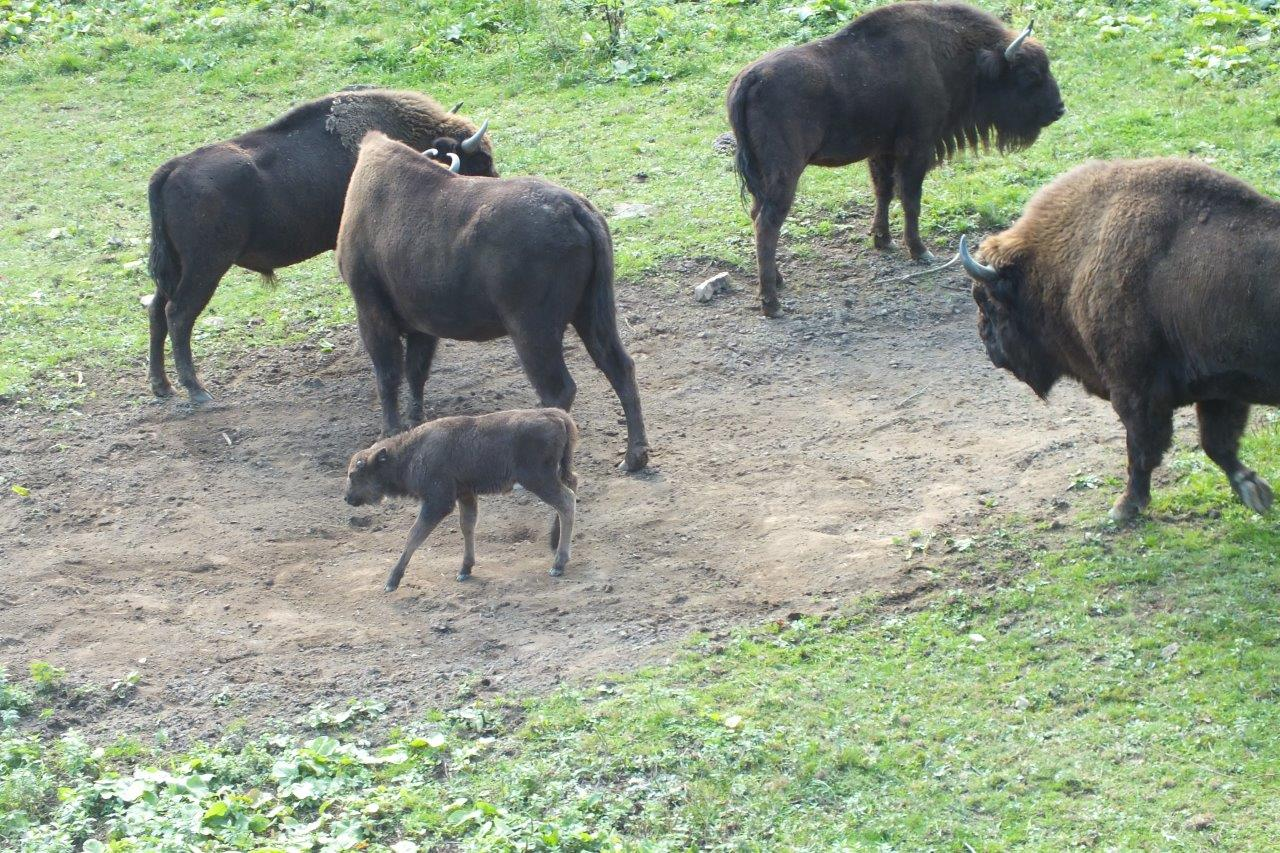zubr: (915, 108, 1280, 529), (315, 108, 696, 510), (691, 1, 1105, 339), (117, 53, 324, 389), (310, 401, 646, 591)
